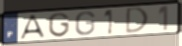1: (156, 5, 169, 33), (102, 8, 114, 35)
A: (18, 14, 48, 41)
D: (124, 6, 150, 35)
G: (47, 12, 72, 38), (74, 10, 97, 37)
